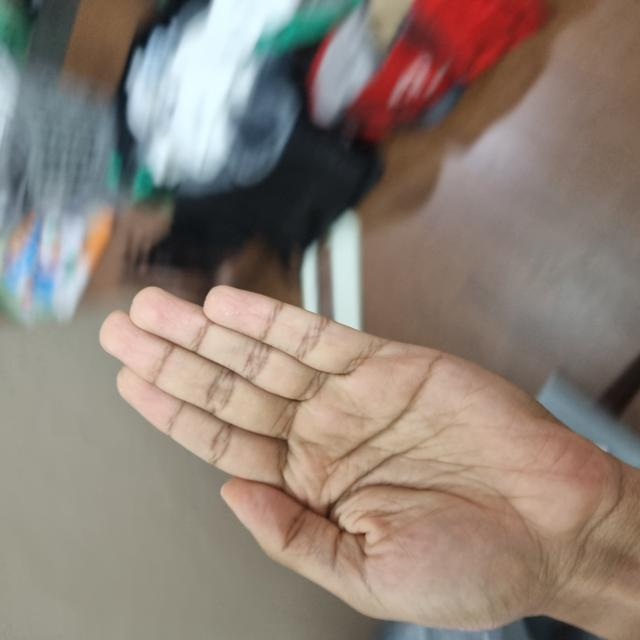Paper: (4, 104, 356, 615)
